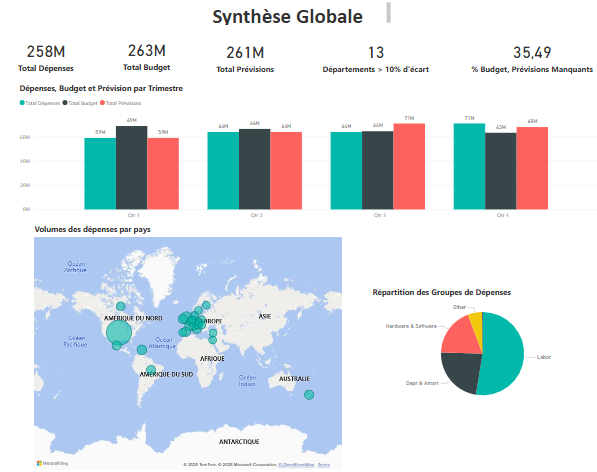

What the dashboard file says about the page in this screenshot:
{"tool":"powerbi","page":{"name":"Synthèse","canvas":[1280,1000],"ordinal":0},"visuals":[{"type":"card","fields":{"Values":["ActualForcastBudget.Total Budget"]},"box":[225.7,77.9,238.2,94.9],"z":0},{"type":"card","fields":{"Values":["ActualForcastBudget.Total Dépenses"]},"box":[42.2,72.2,194.4,106.7],"z":1000},{"type":"card","fields":{"Values":["ActualForcastBudget.Départements en Dépassement"]},"box":[671.4,81,279,94.5],"z":2000},{"type":"card","fields":{"Values":["ActualForcastBudget.Total Prévisions"]},"box":[428.6,81,232,94.5],"z":3000},{"type":"card","fields":{"Values":["ActualForcastBudget.% Prévisions Manquantes"]},"box":[980.7,81,292.7,94.5],"z":4000},{"type":"textbox","box":[474.6,15.2,372,56.1],"z":5000},{"type":"clusteredColumnChart","title":"Dépenses, Budget et Prévision par Trimestre","fields":{"Category":["ActualForcastBudget.Date.Variation.Hiérarchie de dates.Trimestre"],"Y":["ActualForcastBudget.Total Dépenses","ActualForcastBudget.Total Budget","ActualForcastBudget.Total Prévisions"]},"box":[80.6,183.6,1192.8,285.7],"z":6000},{"type":"map","title":"Volumes des dépenses par pays","fields":{"Category":["Regions.Country"],"Size":["ActualForcastBudget.Total Dépenses"]},"box":[111.9,470.1,635.6,506.2],"z":7000},{"type":"pieChart","title":"Répartition des Groupes de Dépenses","fields":{"Category":["CostElements.Cost Element Group"],"Y":["ActualForcastBudget.Total Dépenses"]},"box":[798.5,598.3,457.7,250],"z":8000}]}

Visuals, with their boxes in screenshot pixels (x1, y1, x2, y2), scaled from the page's 1280x1000 canvas onto the 597x472 screenshot:
card - ActualForcastBudget.Total Budget: <bbox>105, 37, 216, 82</bbox>
card - ActualForcastBudget.Total Dépenses: <bbox>20, 34, 110, 84</bbox>
card - ActualForcastBudget.Départements en Dépassement: <bbox>313, 38, 443, 83</bbox>
card - ActualForcastBudget.Total Prévisions: <bbox>200, 38, 308, 83</bbox>
card - ActualForcastBudget.% Prévisions Manquantes: <bbox>457, 38, 594, 83</bbox>
textbox: <bbox>221, 7, 395, 34</bbox>
"Dépenses, Budget et Prévision par Trimestre" clusteredColumnChart: <bbox>38, 87, 594, 222</bbox>
"Volumes des dépenses par pays" map: <bbox>52, 222, 349, 461</bbox>
"Répartition des Groupes de Dépenses" pieChart: <bbox>372, 282, 586, 400</bbox>
